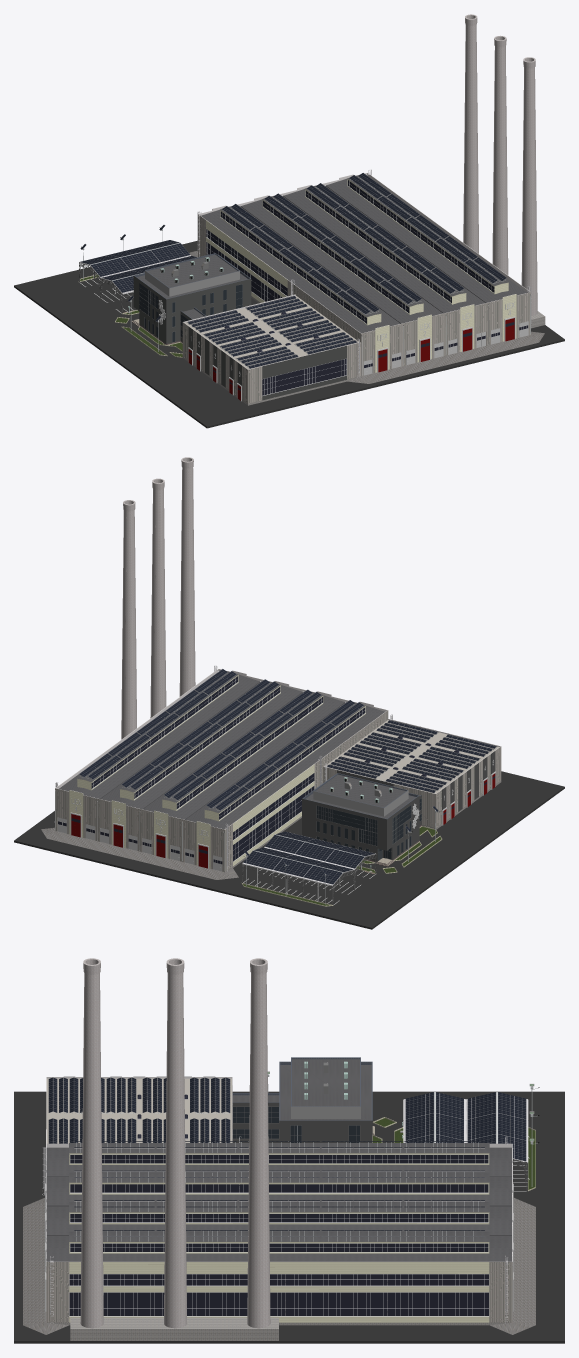
The model's file is fabrica_lev3.glb.
3 views of the same model, one above another, from view 1: azimuth 30°, elevation 25°; view 2: azimuth 150°, elevation 25°; view 3: azimuth 270°, elevation 25° (orthographic). The views are drawn at different scales.
Visible parts, largest first — view 1: object 9, object 6, object 53, object 21, object 49, object 48, object 51, object 52, object 7, object 5, object 34, object 44 (+12 smaller); view 2: object 53, object 9, object 6, object 21, object 49, object 48, object 51, object 52, object 5, object 7, object 38, object 11 (+13 smaller); view 3: object 9, object 48, object 21, object 53, object 6, object 34, object 50, object 11, object 5, object 52, object 10, object 7 (+12 smaller).
Boxes of the visible parts, x1,y1,x2,y2 form: object 9: [137, 175, 526, 335]; object 6: [187, 173, 506, 368]; object 53: [14, 240, 564, 428]; object 21: [463, 14, 537, 315]; object 49: [182, 214, 530, 403]; object 48: [189, 180, 527, 395]; object 51: [133, 276, 346, 400]; object 52: [220, 179, 516, 372]; object 7: [185, 295, 358, 369]; object 5: [80, 240, 196, 292]; object 34: [79, 181, 493, 395]; object 44: [82, 173, 530, 375]; object 53: [14, 771, 564, 929]; object 9: [59, 671, 416, 831]; object 6: [79, 669, 497, 810]; object 21: [121, 457, 195, 739]; object 49: [55, 710, 501, 872]; object 48: [58, 676, 495, 864]; object 51: [302, 751, 495, 861]; object 52: [69, 675, 365, 868]; object 5: [243, 831, 374, 884]; object 7: [324, 720, 499, 793]; object 38: [316, 798, 421, 860]; object 11: [41, 827, 238, 879]; object 9: [46, 1059, 511, 1261]; object 48: [69, 1094, 488, 1315]; object 21: [80, 958, 270, 1328]; object 53: [14, 1091, 564, 1343]; object 6: [48, 1077, 484, 1236]; object 34: [46, 1099, 529, 1316]; object 50: [69, 1262, 489, 1322]; object 11: [23, 1198, 535, 1334]; object 5: [405, 1092, 526, 1161]; object 52: [69, 1153, 489, 1253]; object 10: [47, 1085, 510, 1340]; object 7: [46, 1078, 231, 1143].
Bounding box in the file's own units: 259 × 182 × 242.
42 materials, 19 textured.
